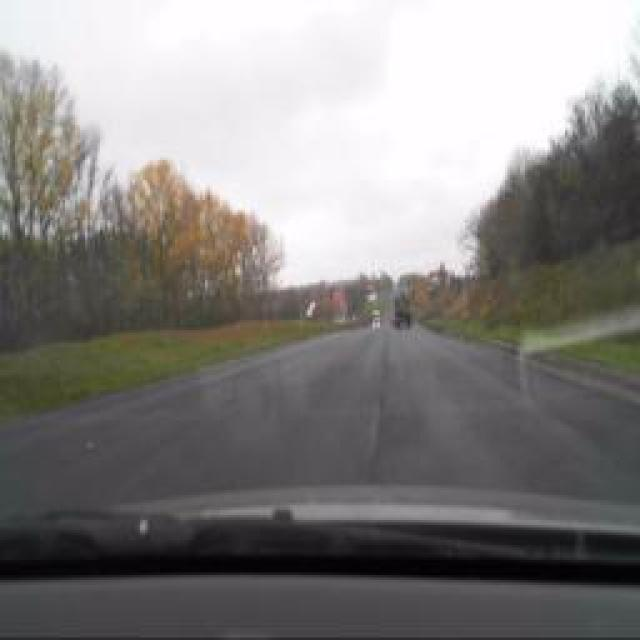sign: (461, 278, 469, 292)
